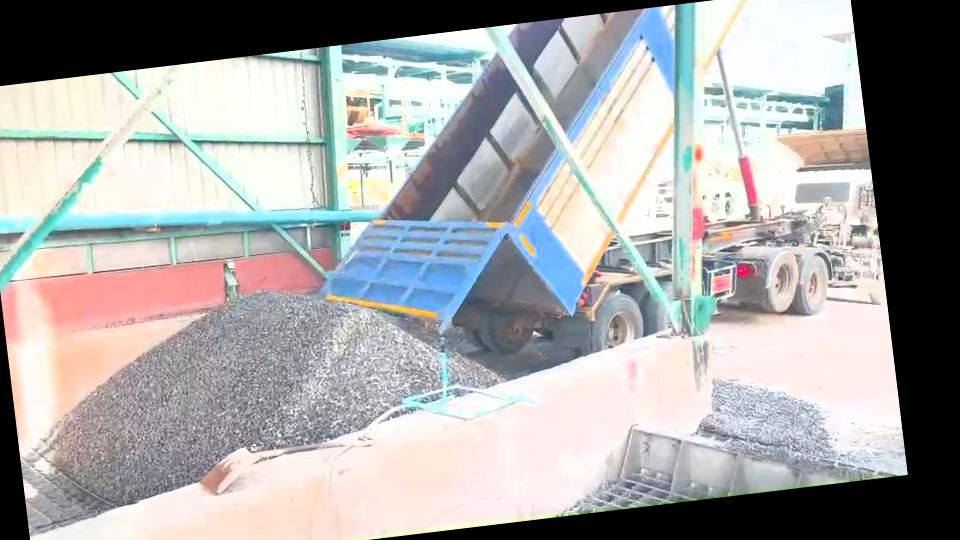gravel: (49, 292, 439, 503), (698, 379, 840, 466), (449, 352, 501, 387)
